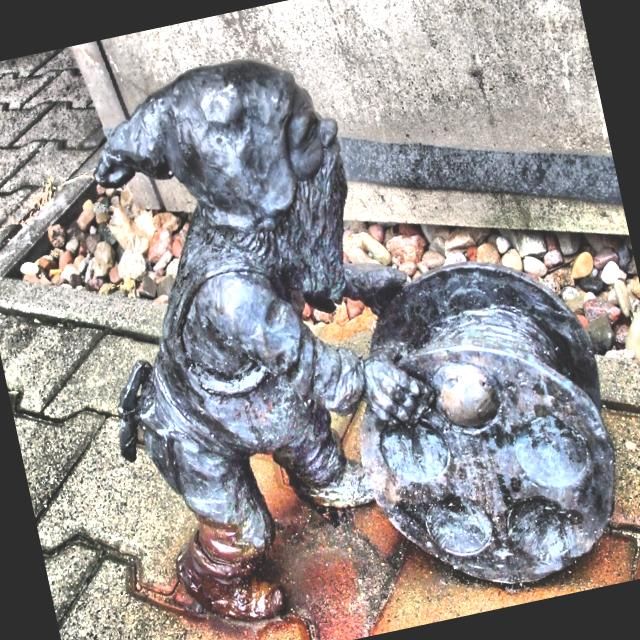Lappek: (91, 60, 615, 621)
